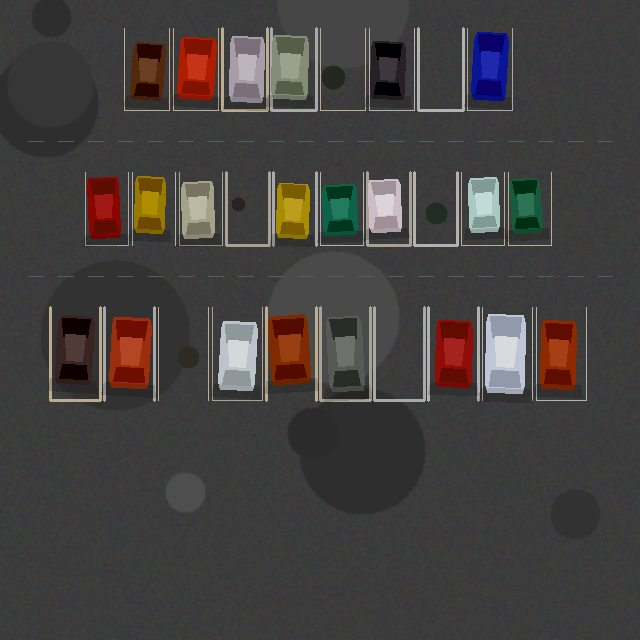space-empty: (158, 307, 208, 400), (374, 307, 424, 400), (320, 28, 365, 110), (418, 28, 463, 110), (226, 172, 269, 245), (414, 172, 457, 245)
space-occupied: (50, 307, 100, 400), (104, 307, 154, 400), (212, 307, 262, 400), (266, 307, 316, 400), (320, 307, 370, 400), (428, 307, 478, 400), (482, 307, 532, 400), (536, 307, 586, 400), (124, 28, 169, 110), (173, 28, 218, 110), (222, 28, 267, 110), (271, 28, 316, 110), (369, 28, 414, 110), (467, 28, 512, 110), (85, 172, 128, 245), (132, 172, 175, 245), (179, 172, 222, 245), (273, 172, 316, 245), (320, 172, 363, 245), (367, 172, 410, 245), (461, 172, 504, 245), (508, 172, 551, 245)
